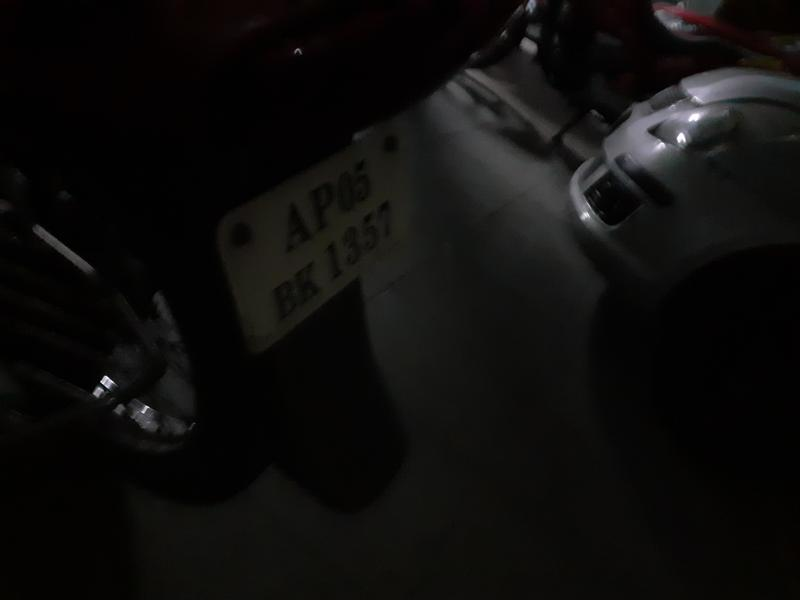numberplate: (204, 144, 448, 342)
